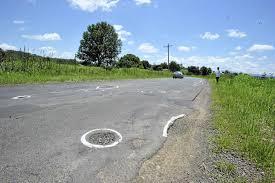pothole: (83, 127, 118, 147)
